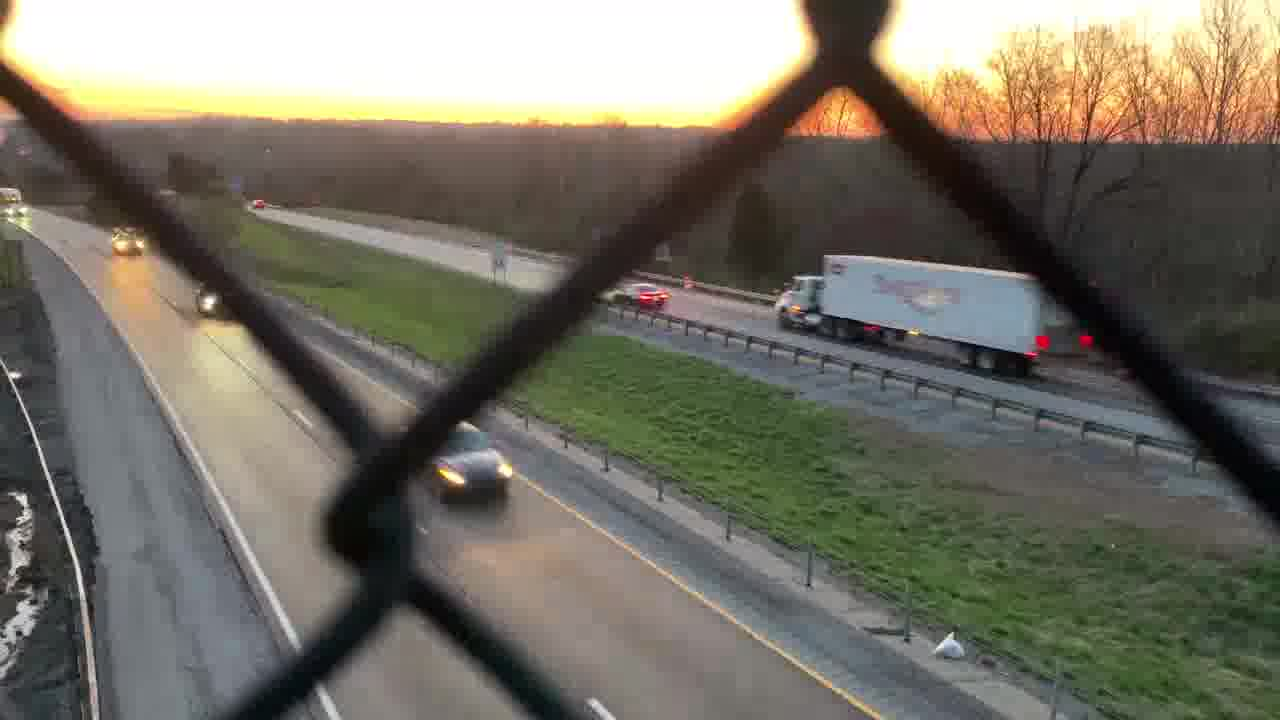heavyTruck: (773, 255, 1100, 382), (1, 177, 28, 221)
smallCar: (410, 410, 517, 503), (613, 282, 666, 313)
vehicle: (194, 274, 231, 318), (112, 224, 149, 260), (249, 193, 268, 212)
